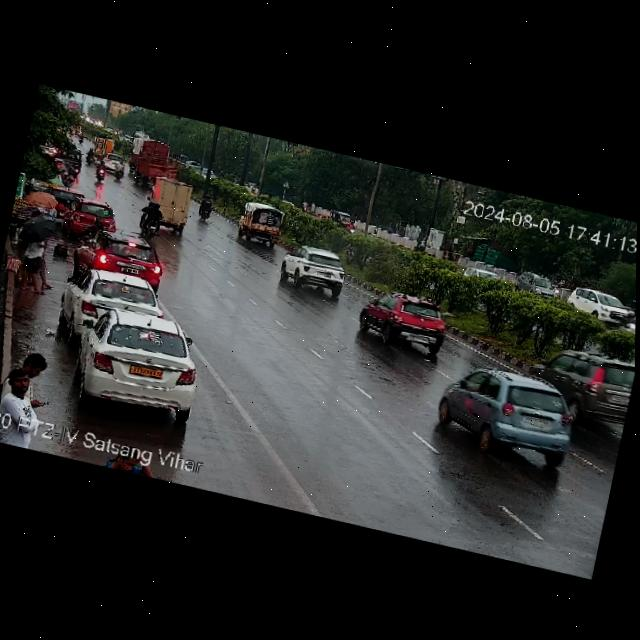car: (424, 356, 586, 474), (65, 303, 208, 425), (530, 338, 635, 429), (60, 261, 163, 343), (352, 283, 456, 359), (80, 227, 170, 286), (41, 183, 117, 240), (280, 246, 356, 298), (562, 284, 636, 329), (515, 268, 560, 303), (330, 206, 351, 229), (104, 151, 124, 170)
motorcycle: (135, 198, 172, 240), (197, 190, 221, 224), (90, 161, 115, 185), (111, 160, 125, 181), (86, 147, 97, 167), (78, 132, 84, 145)
person: (1, 346, 51, 403), (19, 227, 59, 296), (110, 449, 151, 476)
truck: (147, 173, 196, 236), (125, 135, 183, 187), (236, 199, 287, 248), (92, 135, 116, 159)
